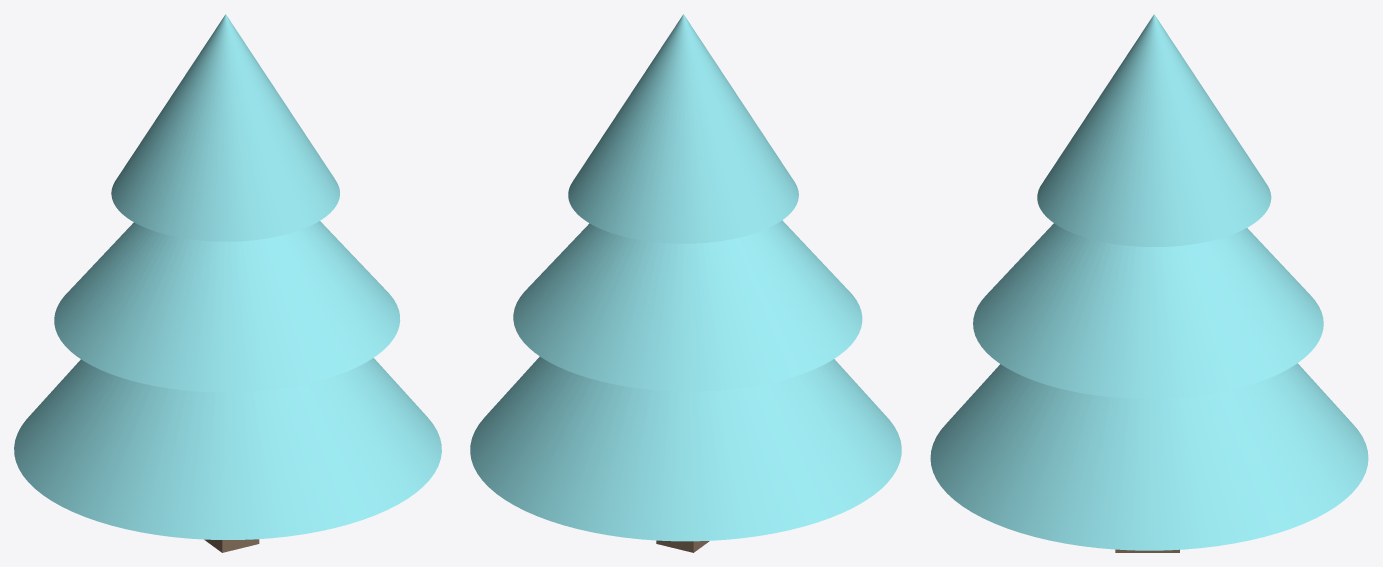
Rendered from Snow Tree.fbx.
3 renders of one model, left to right at view 1: azimuth 30°, elevation 25°; view 2: azimuth 150°, elevation 25°; view 3: azimuth 270°, elevation 25°, orthographic. The views are drawn at different scales.
Parts seen in each view (by area): view 1: node_id39 (×3); view 2: node_id39 (×3); view 3: node_id39 (×3).
Boxes of the visible parts, <box> form: node_id39 (×3): <box>14,14,441,539</box>; node_id39 (×3): <box>470,14,901,541</box>; node_id39 (×3): <box>930,14,1368,550</box>.
Size of the model in its own units: 0.3396 by 0.4549 by 0.3396.
4 materials, 4 textured.
